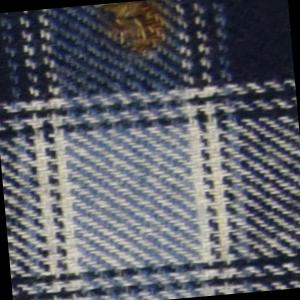Damage: (107, 1, 167, 55)
Oil Stain: (86, 1, 181, 64)
